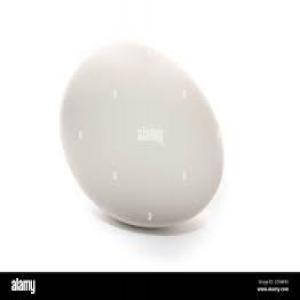Egg: (56, 38, 229, 236)
